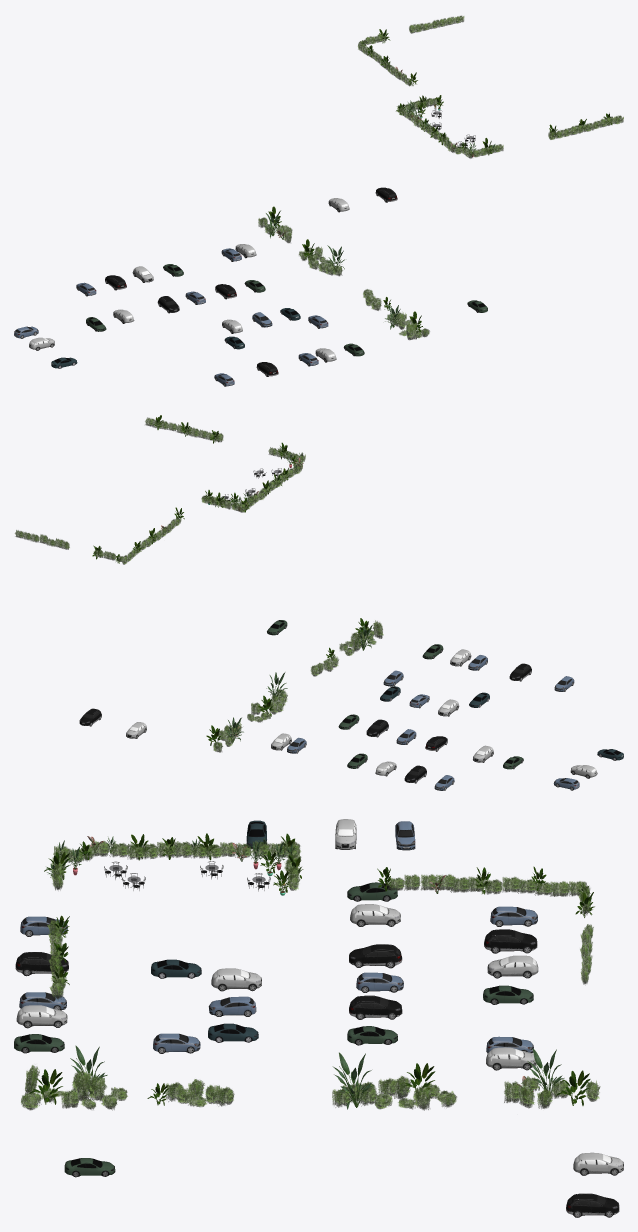
File: Clinic_mini_plants.glb
The picture shows the model from 3 angles, top to bottom: view 1: azimuth 30°, elevation 25°; view 2: azimuth 150°, elevation 25°; view 3: azimuth 270°, elevation 25°; orthographic projection. The views are drawn at different scales.
Visible parts, largest first — view 1: plant_build; view 2: plant_build; view 3: plant_build.
Boxes of the visible parts, box(x1,y1,x2,y2) form: plant_build: box(14, 15, 623, 386); plant_build: box(15, 415, 623, 790); plant_build: box(14, 819, 623, 1217).
Size of the model in its own units: 99.34 by 33.19 by 54.86.
14 materials, 14 textured.
